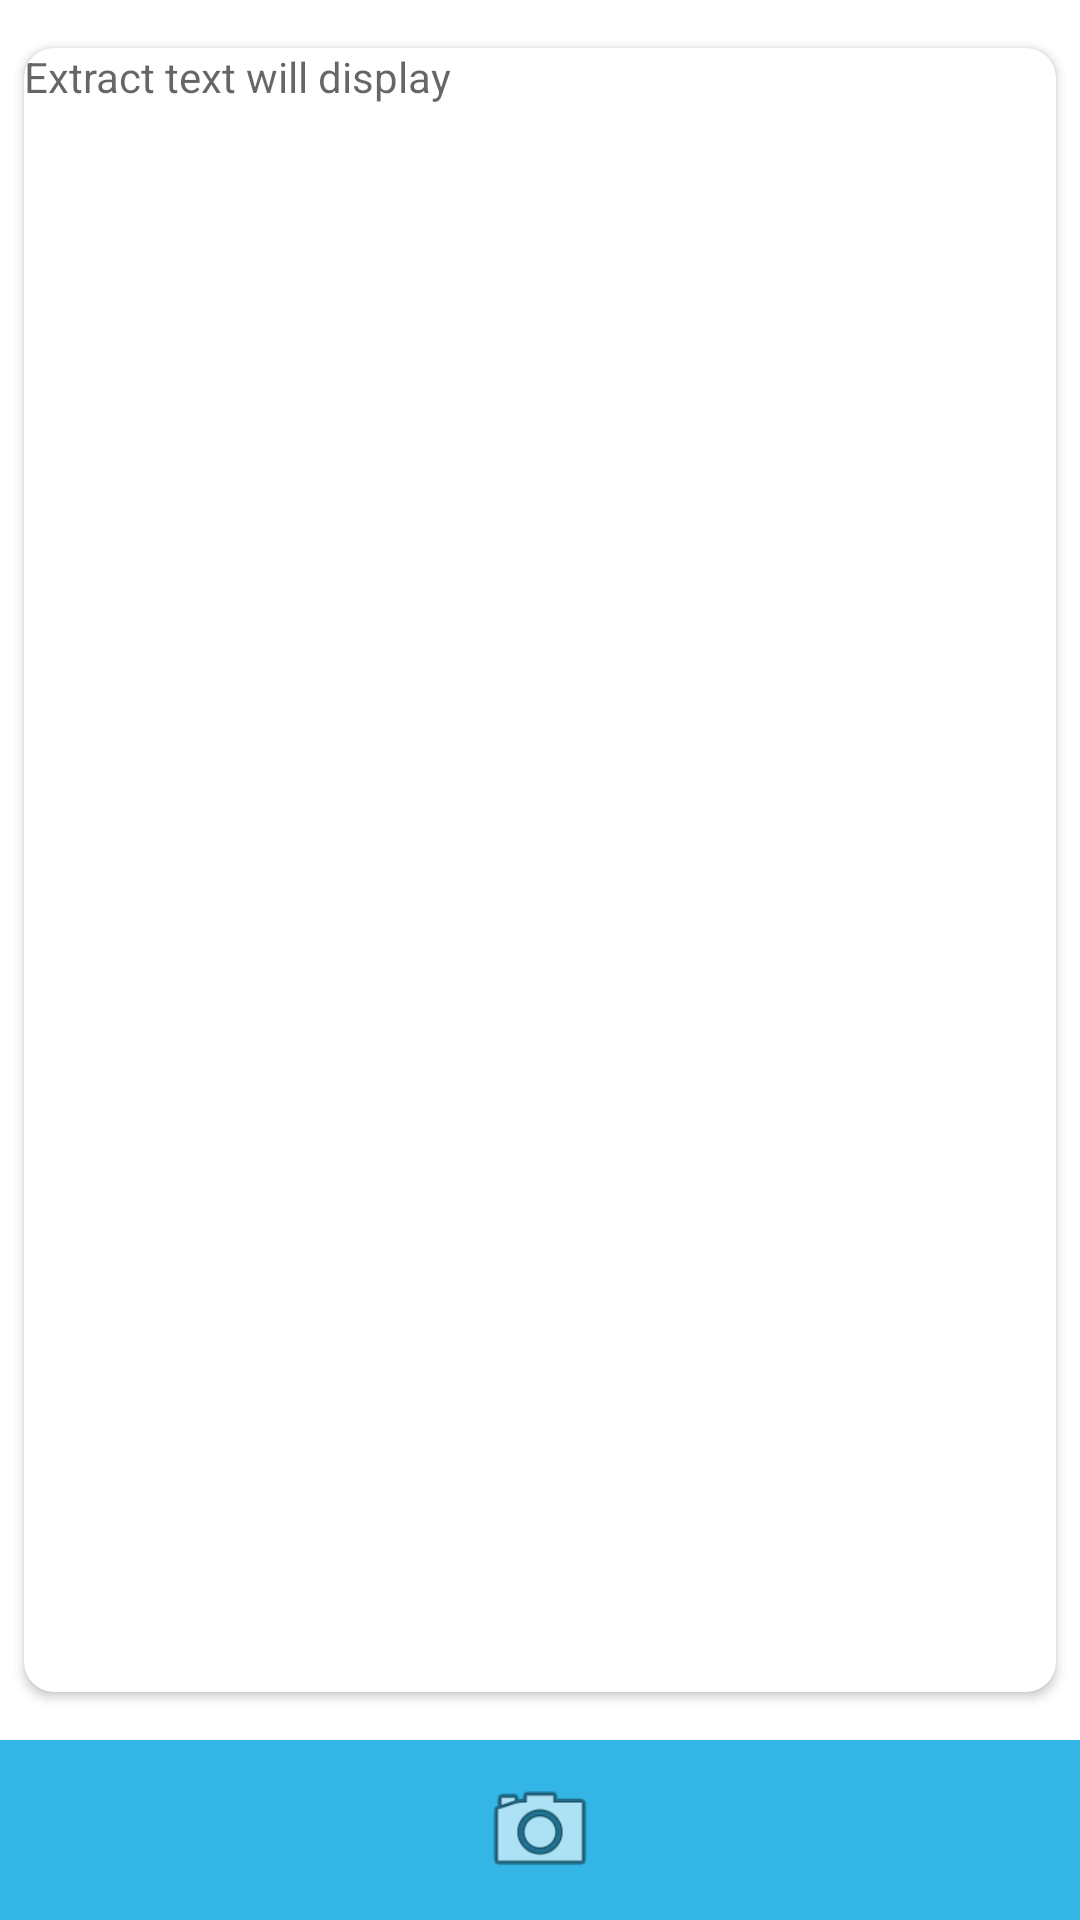

Icon bounding boxes for this 1080w x 1920h phone screenshot, format BBox(x1, y1, x2, y2):
camera: BBox(494, 1791, 586, 1865)
